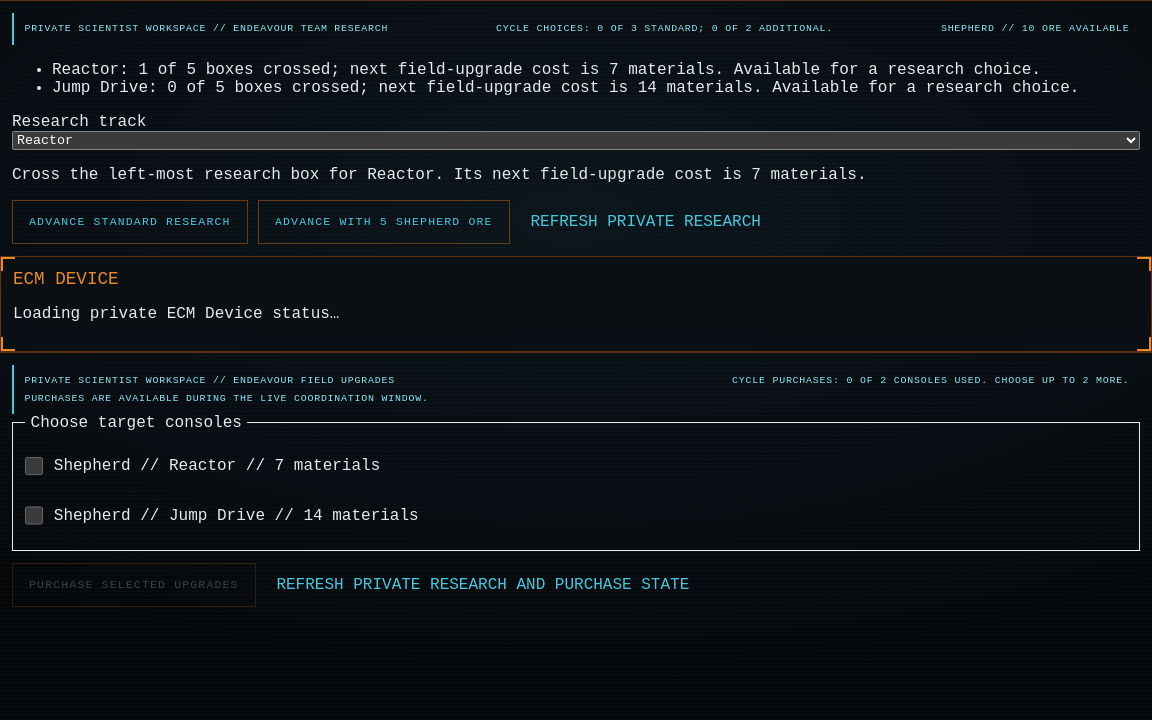
confirms the exact pending request after a same-holder cycle and control rollover
Click the button "Advance standard research". click: (130, 222)
box: [12,200,248,244]
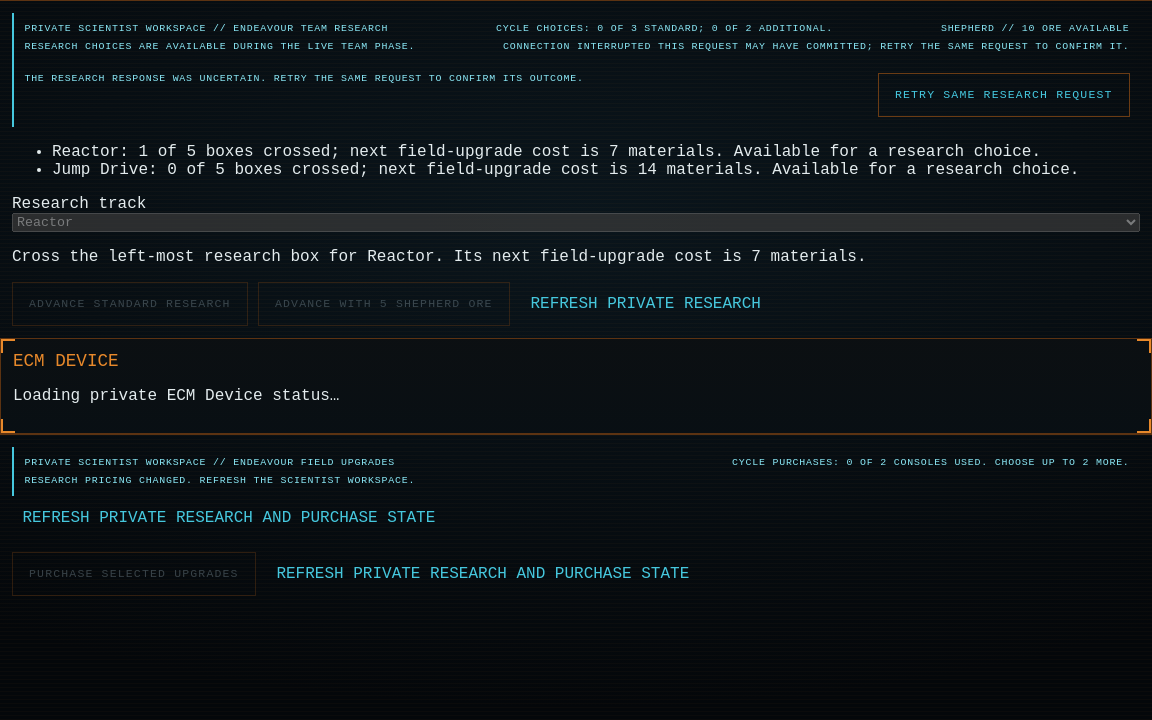
Now the button "Retry same research request" is enabled, box [878,73,1130,117]
Click the button "Refresh private research". click: (646, 304)
box: [520,282,771,326]
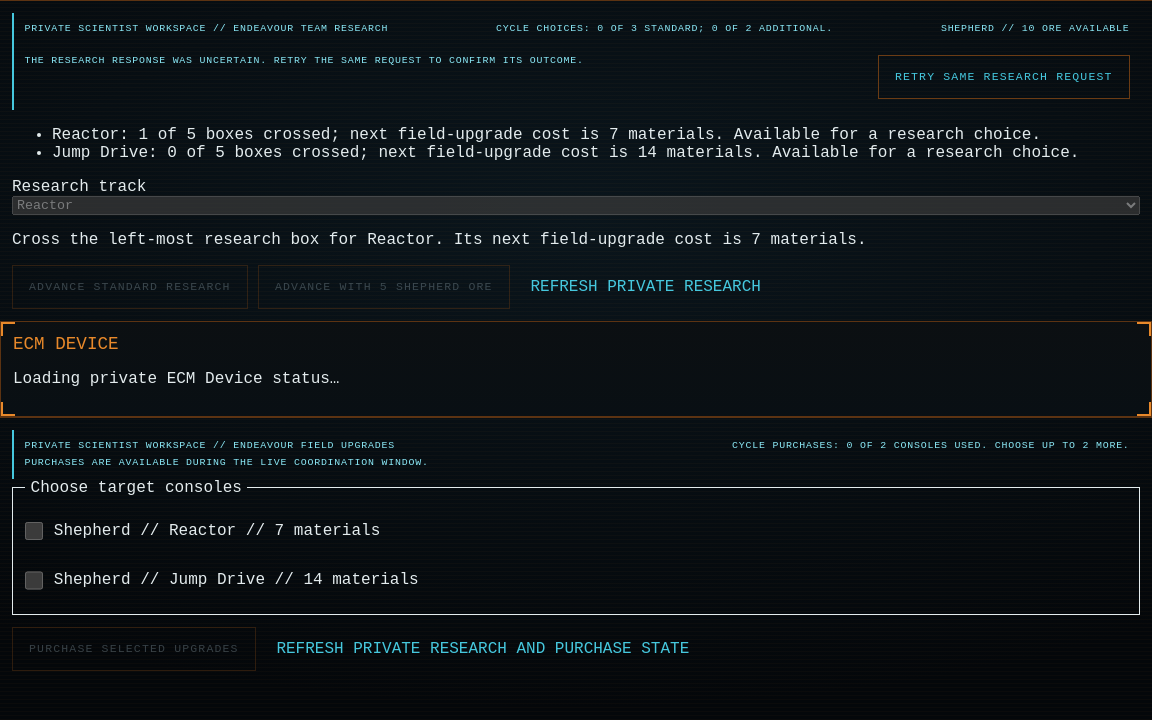
Now the button "Retry same research request" is enabled
Click the button "Retry same research request". click: (1004, 77)
box: [878,55,1130,99]
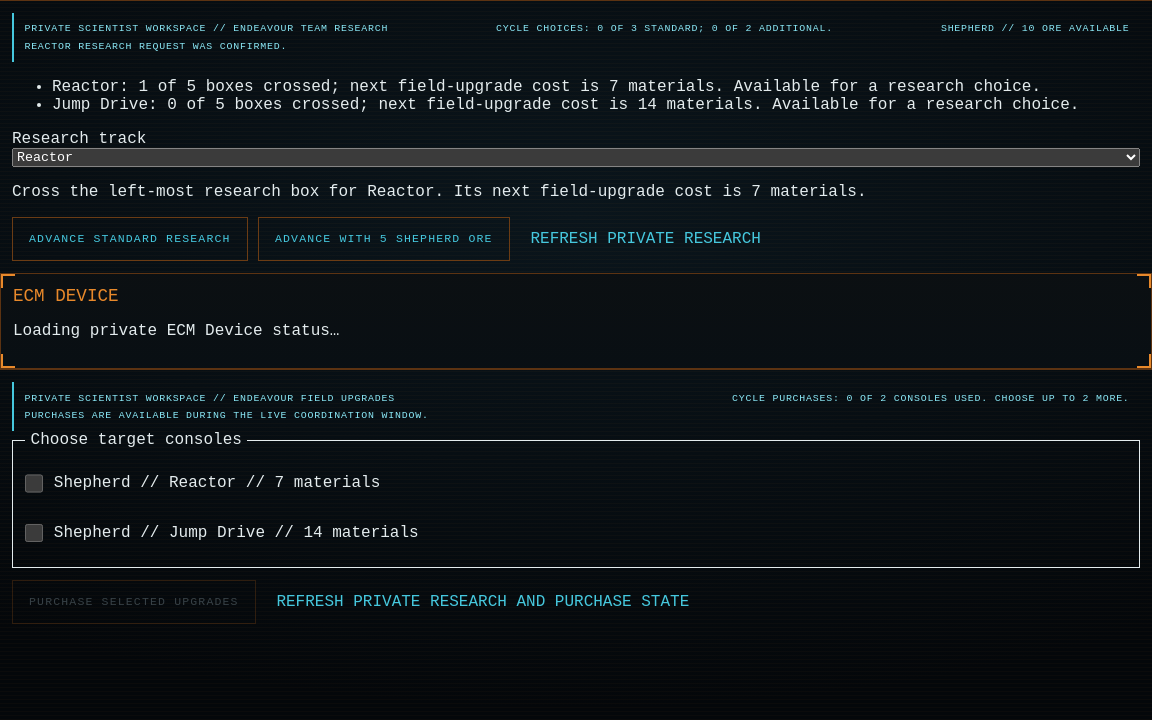
Now the message "Reactor research request was confirmed." is shown, box [24,41,287,52]
